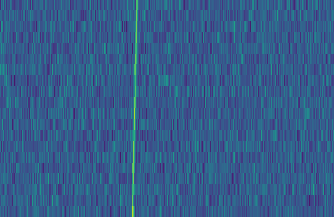signal: (127, 0, 141, 217)
